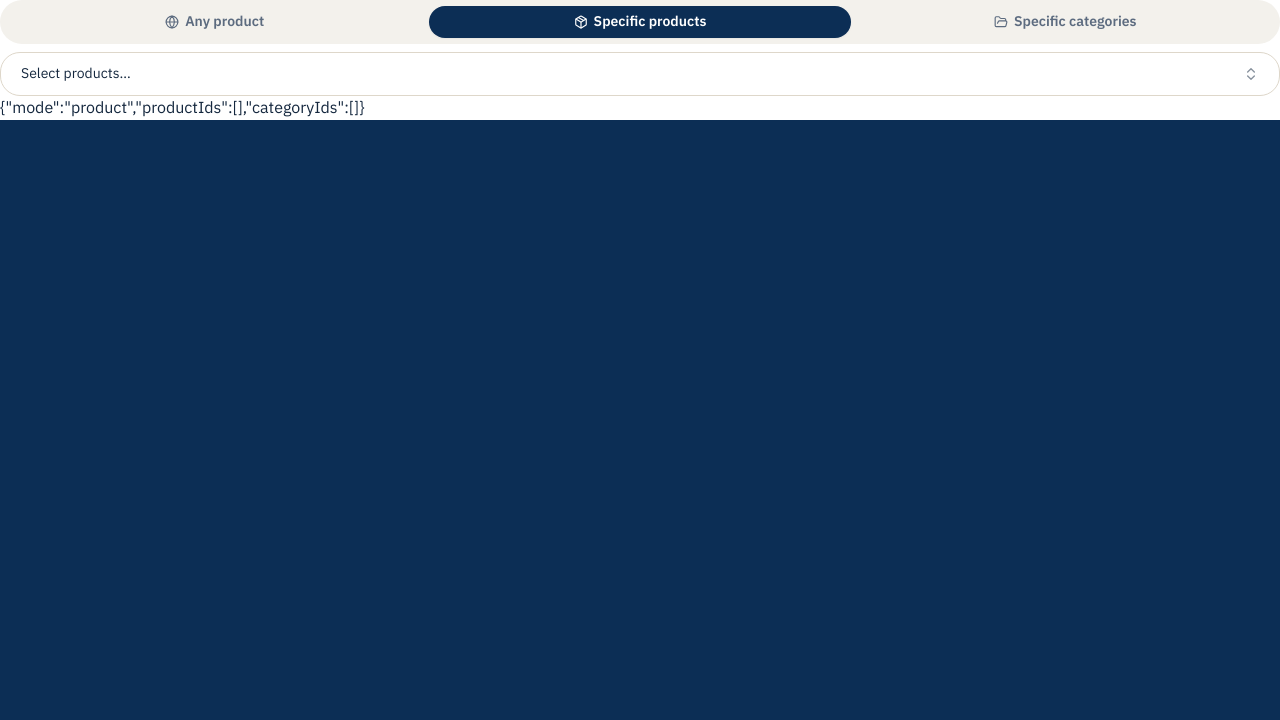
Test: search › shows an empty state, not a blank list, when nothing matches
Click the dropdown at (76, 74), box [0,52,1279,96]
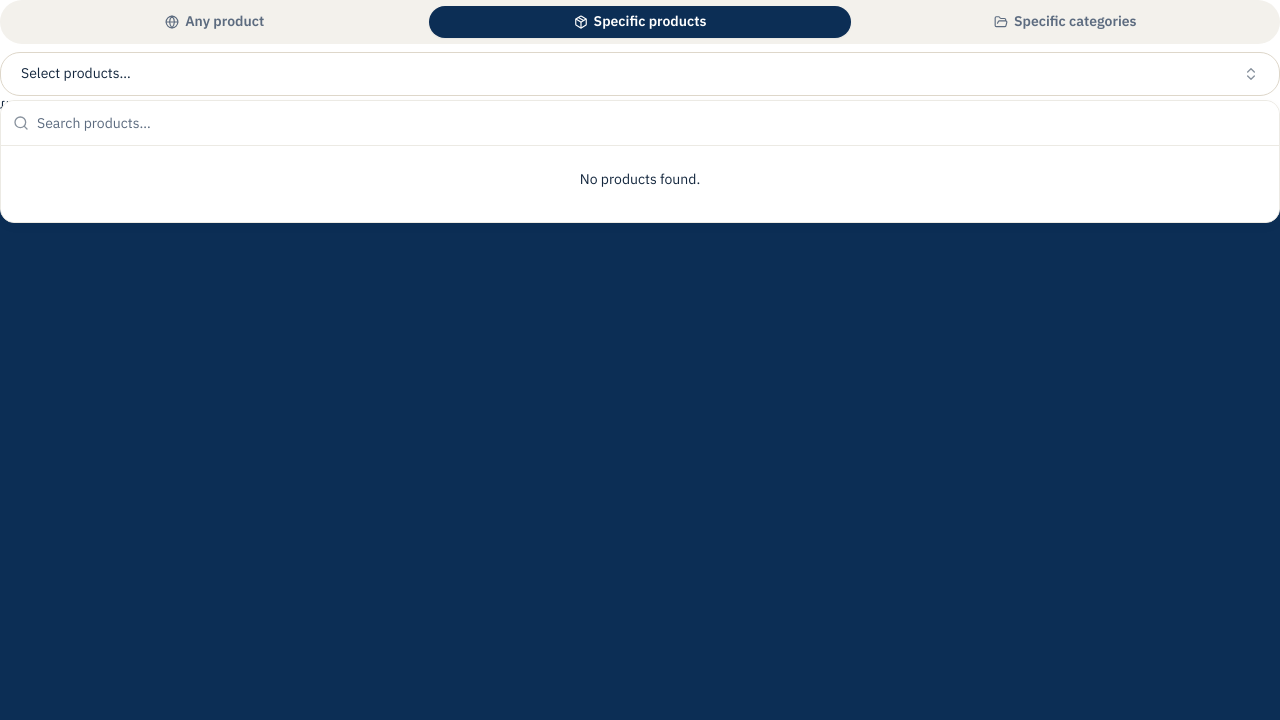
Expected: the text "No products found." is shown, [580,169,700,190]
